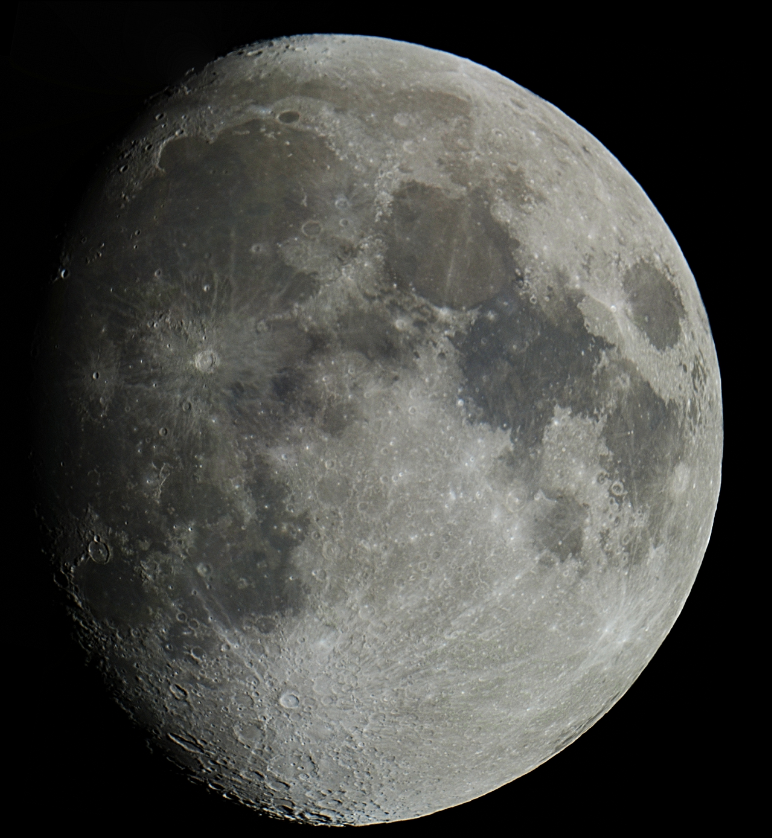crater: (101, 277, 288, 427), (76, 518, 135, 587), (298, 462, 355, 515), (278, 209, 335, 251), (263, 97, 313, 141), (158, 673, 202, 717), (162, 724, 215, 758), (596, 293, 633, 341), (380, 96, 427, 131), (236, 233, 273, 269), (323, 187, 360, 216), (271, 684, 305, 715), (192, 552, 222, 582), (56, 264, 86, 291), (151, 419, 179, 445), (169, 116, 192, 144), (501, 339, 529, 361), (401, 404, 424, 425), (402, 379, 422, 401), (301, 524, 324, 543), (130, 223, 154, 240), (373, 440, 395, 458), (375, 470, 392, 487)
